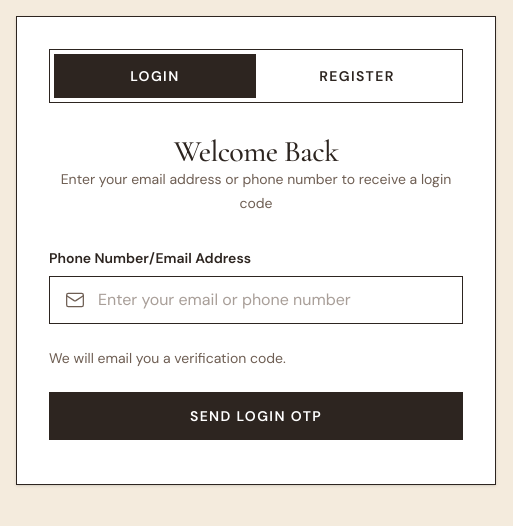
Scenario: CustomerLoginForm › stops an unregistered phone login before Firebase or SMS
The width and height of the screenshot is (513, 526).
Type "9876543210" into the field with placeholder "Enter your email or phone number" at [256, 300], box top-left (49, 276), bottom-right (463, 324)
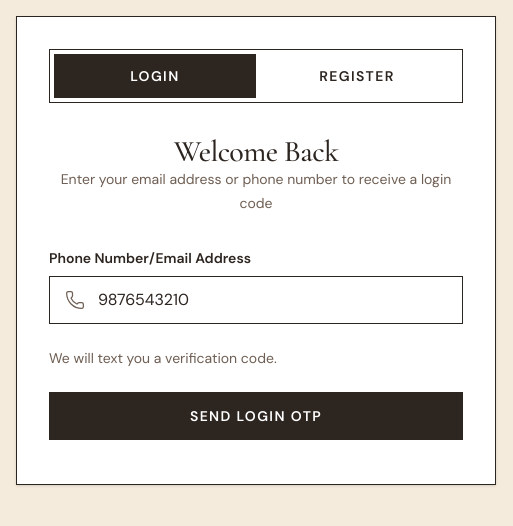
Click the button "SEND LOGIN OTP" at [256, 416], box top-left (49, 392), bottom-right (463, 440)
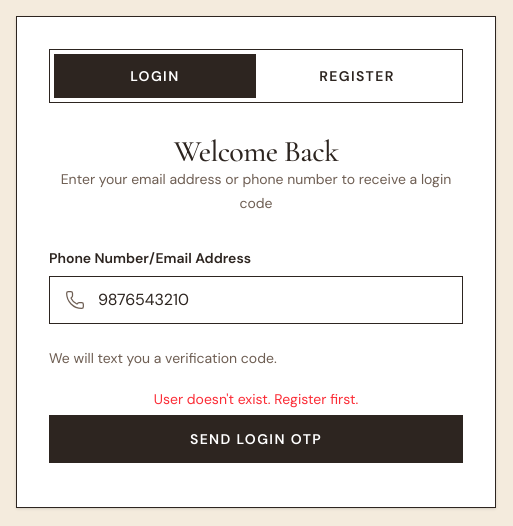
expect the text "User doesn't exist. Register first." is shown: met, box top-left (154, 390), bottom-right (358, 408)
